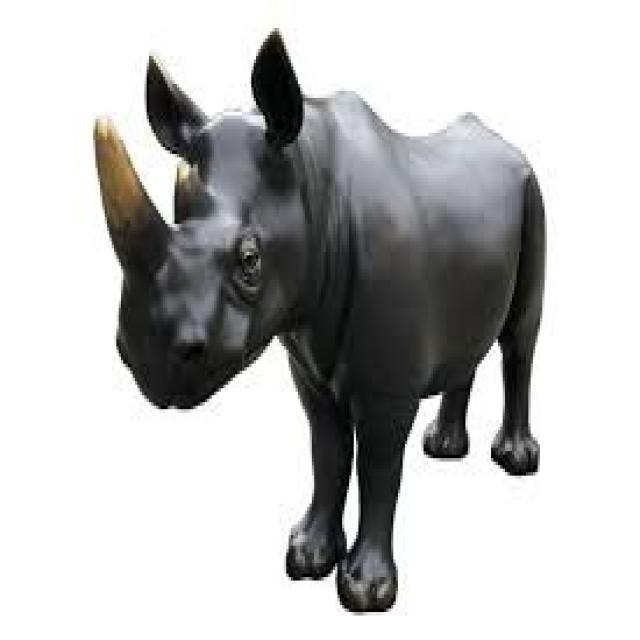rhinoceros: (95, 31, 542, 609)
